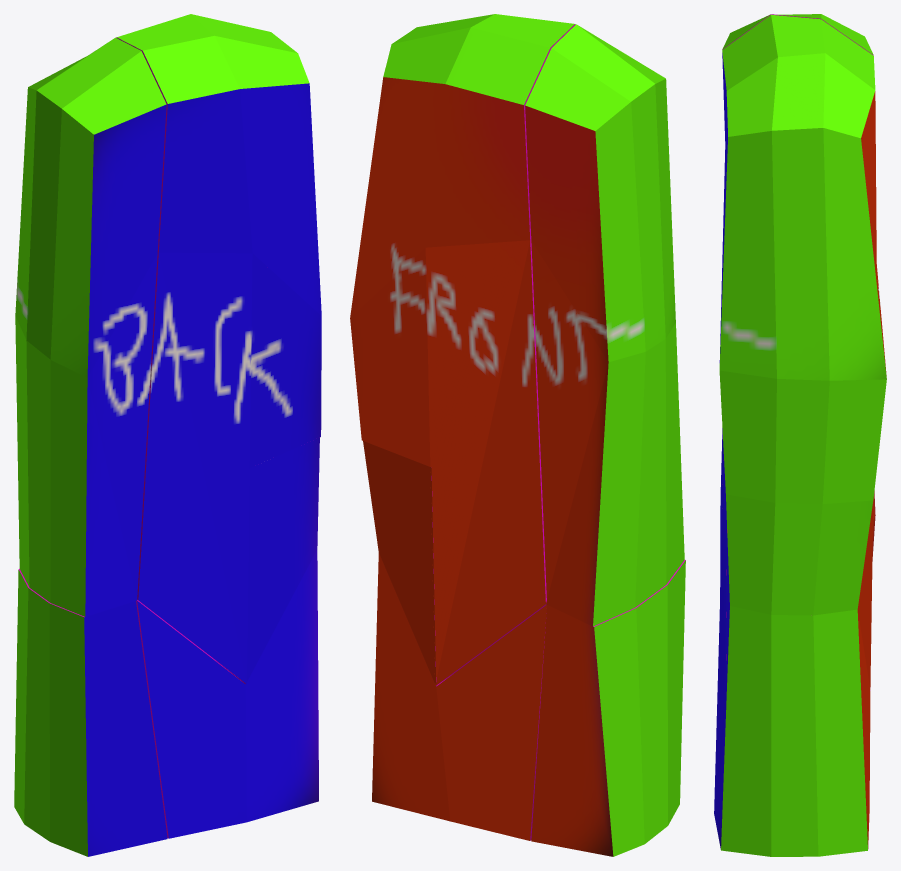
File: StatueThinner 1.fbx
The picture shows the model from 3 angles, left to right: view 1: azimuth 30°, elevation 25°; view 2: azimuth 150°, elevation 25°; view 3: azimuth 270°, elevation 25°; orthographic projection. The views are drawn at different scales.
Parts seen in each view (by area): view 1: Cube; view 2: Cube; view 3: Cube.
Boxes of the visible parts, x1,y1,x2,y2 form: Cube: (14, 14, 321, 856); Cube: (350, 14, 685, 856); Cube: (714, 14, 886, 856).
Bounding box in the file's own units: 151 × 414 × 85.12.
